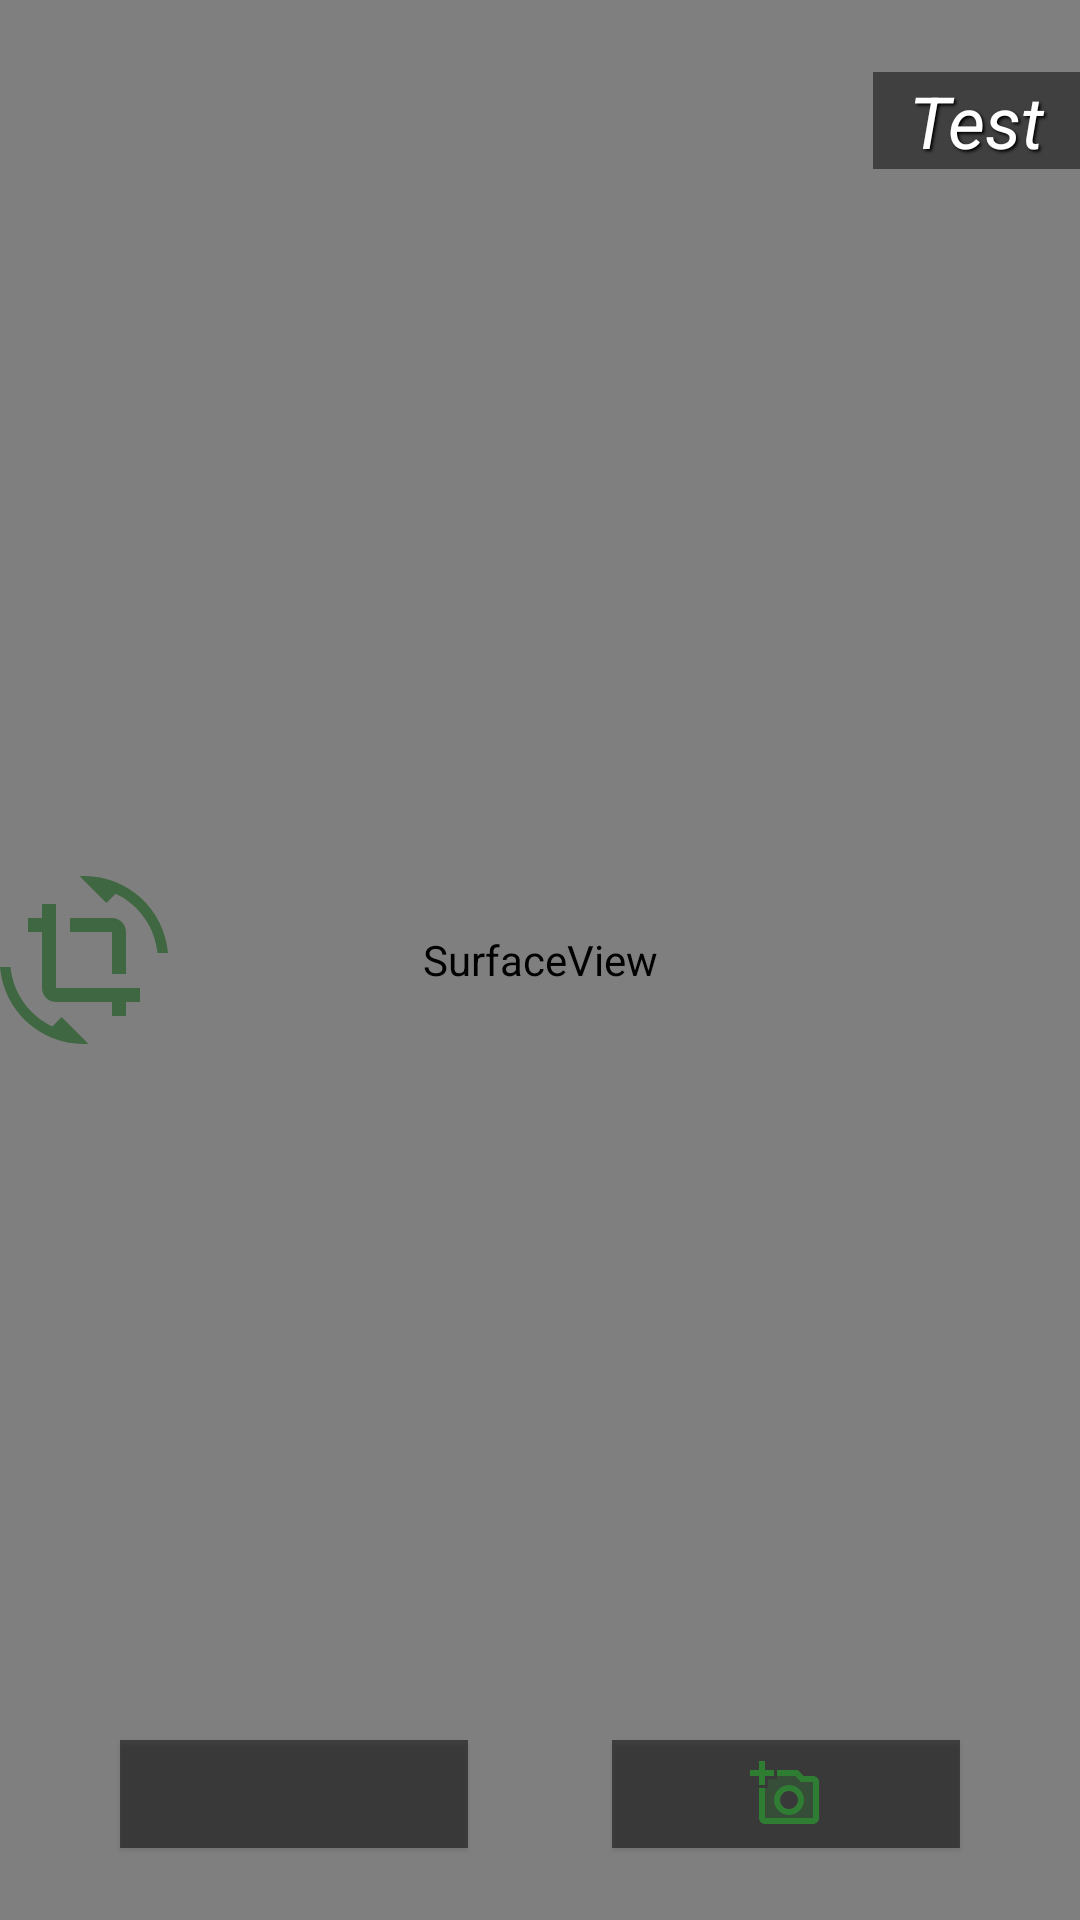

Icons on this 1080px×1920px Android screen, each with the point to tap as point (x, y):
add photo: point (786, 1794)
